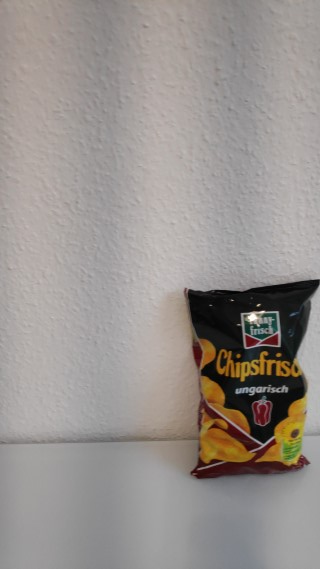chipsfrisch: (182, 277, 320, 481)
